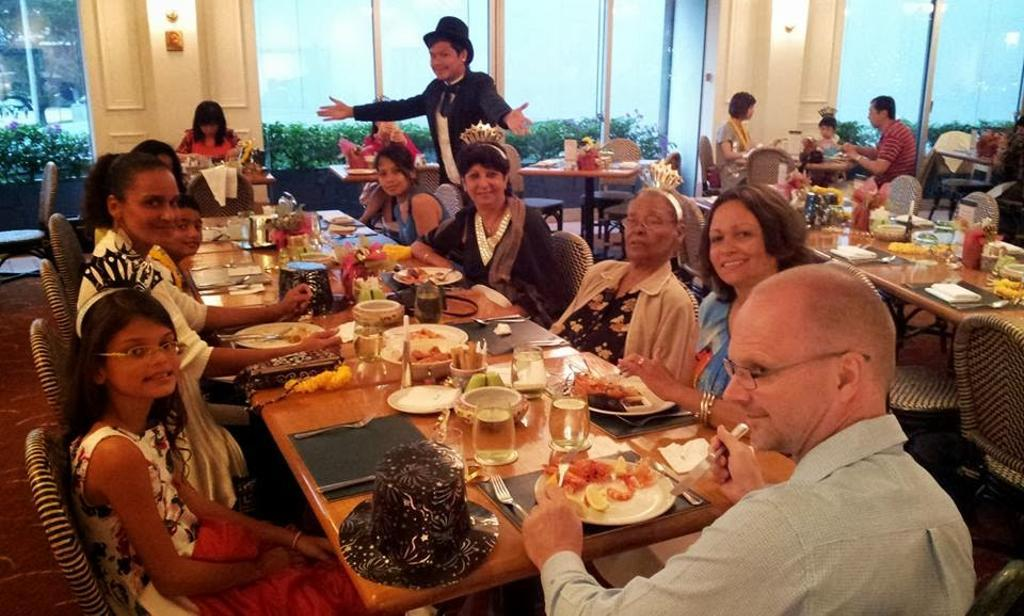face: (721, 296, 836, 453), (104, 316, 181, 398), (707, 200, 774, 286), (125, 167, 177, 243), (624, 191, 678, 259), (170, 207, 204, 255), (467, 163, 504, 204), (378, 158, 410, 196), (430, 41, 461, 79), (378, 110, 398, 132), (200, 118, 220, 137), (867, 102, 882, 127), (821, 124, 835, 137), (747, 99, 755, 119)
